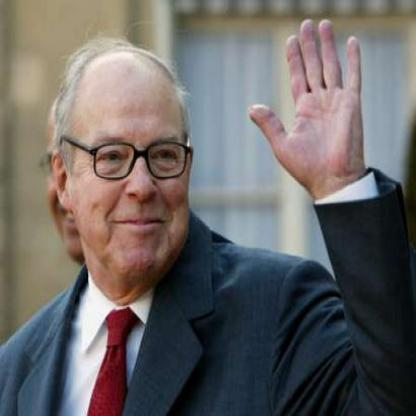face: (67, 48, 199, 285)
